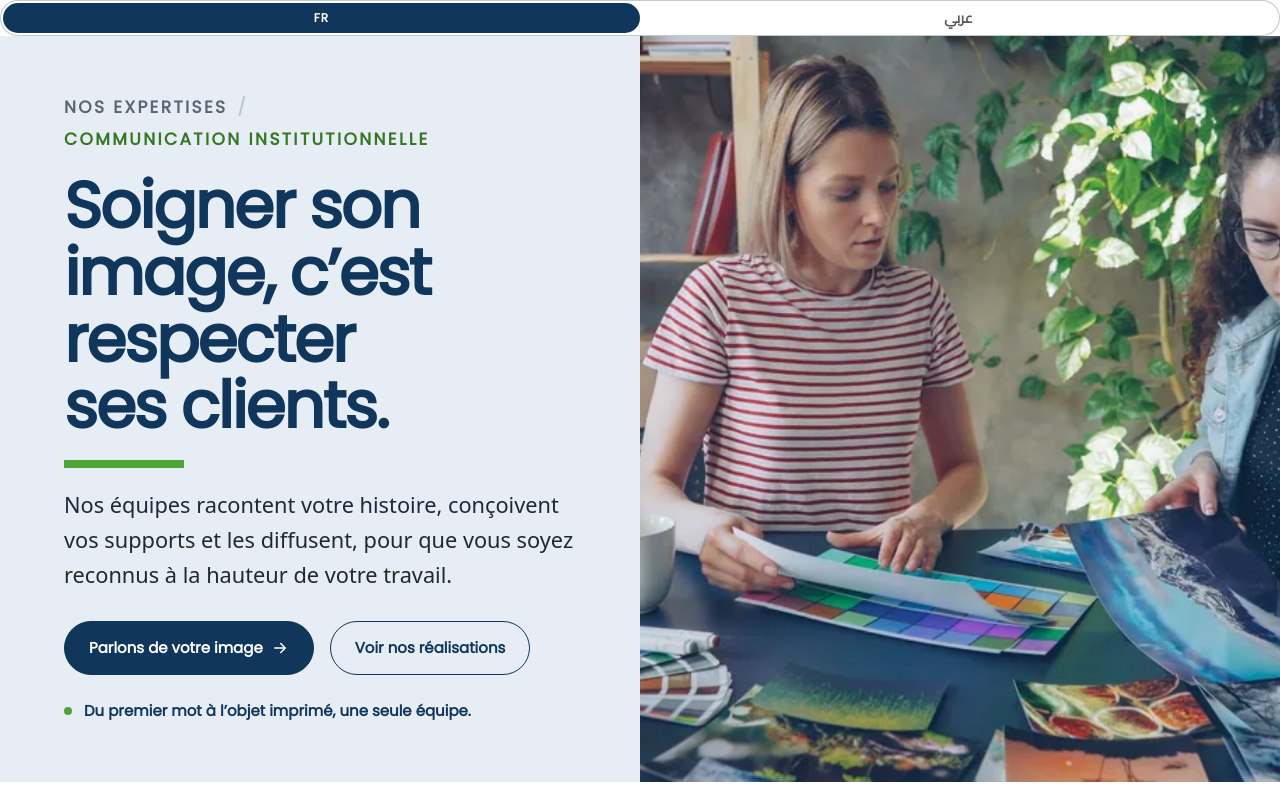
Test: Page « Communication institutionnelle » › passe en arabe
The image size is (1280, 805).
Click the button "عربي": (958, 18) [640,3,1277,33]
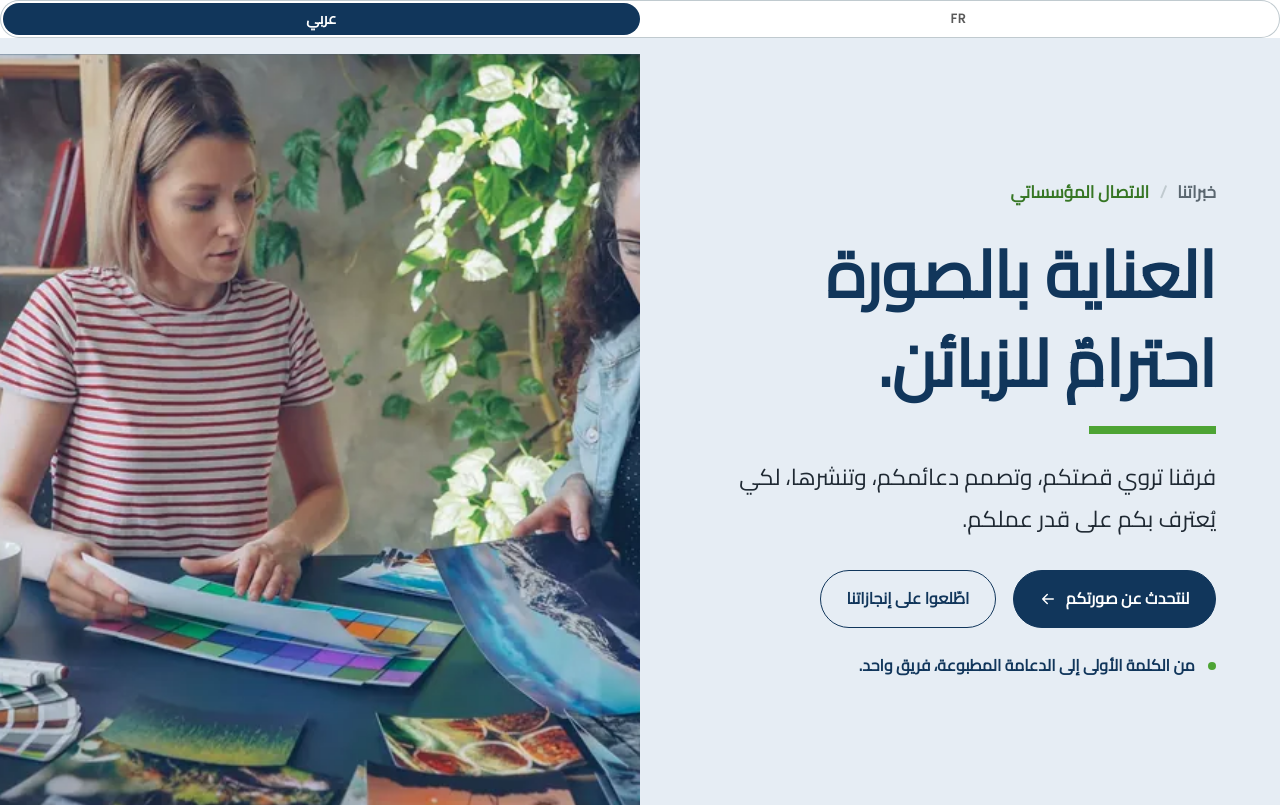
Result: the heading reads "العناية بالصورة احترامٌ للزبائن." at [826,213,1216,424]
